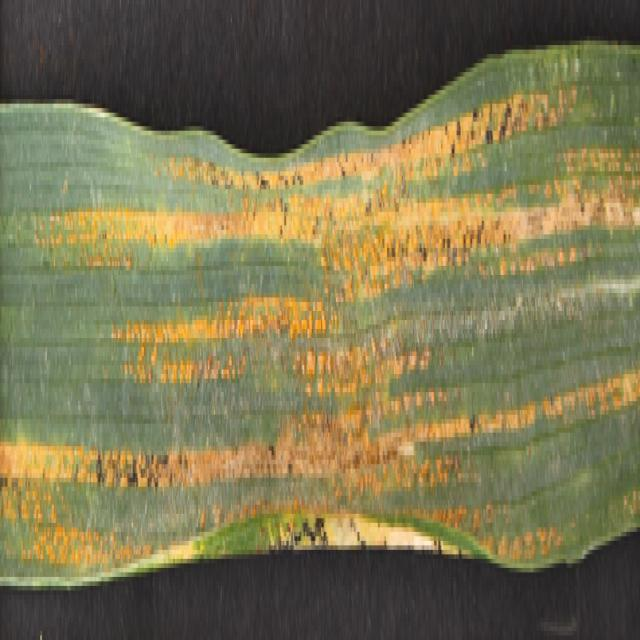leaf rust: (1, 45, 640, 590)
